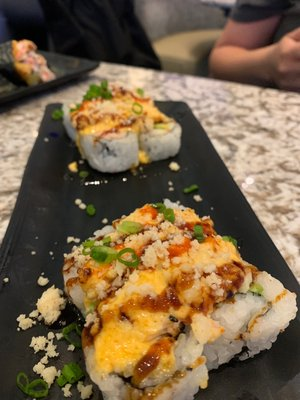curry: (1, 44, 299, 400)
sandwich: (61, 200, 299, 400), (0, 38, 57, 88)
sushi: (64, 78, 182, 173)
